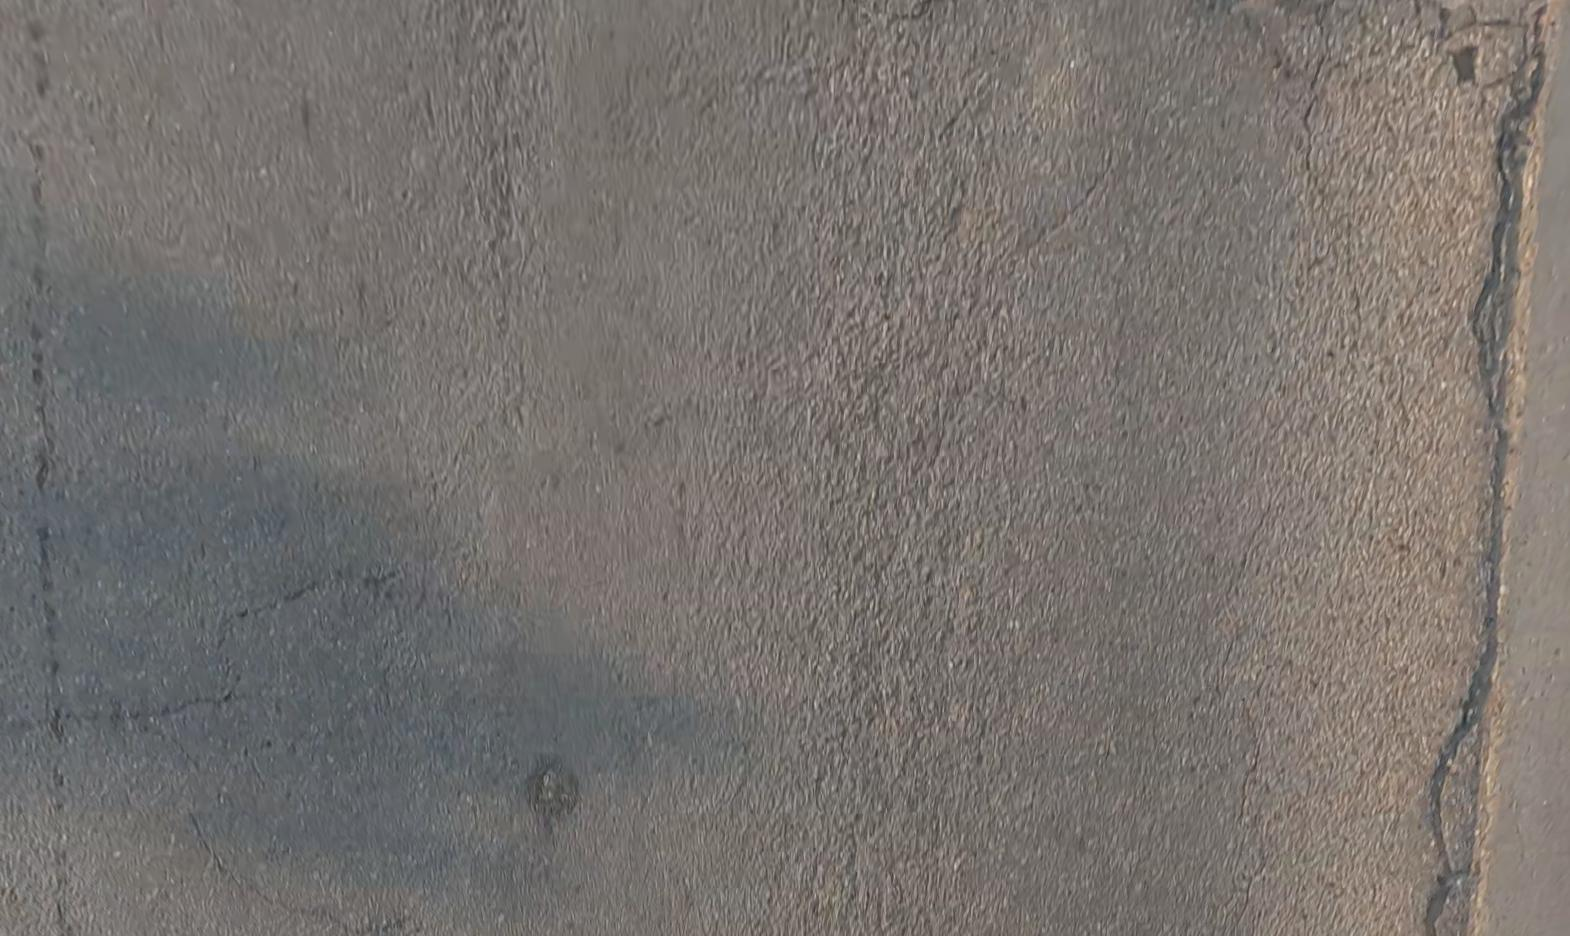pothole: (1471, 96, 1540, 438)
